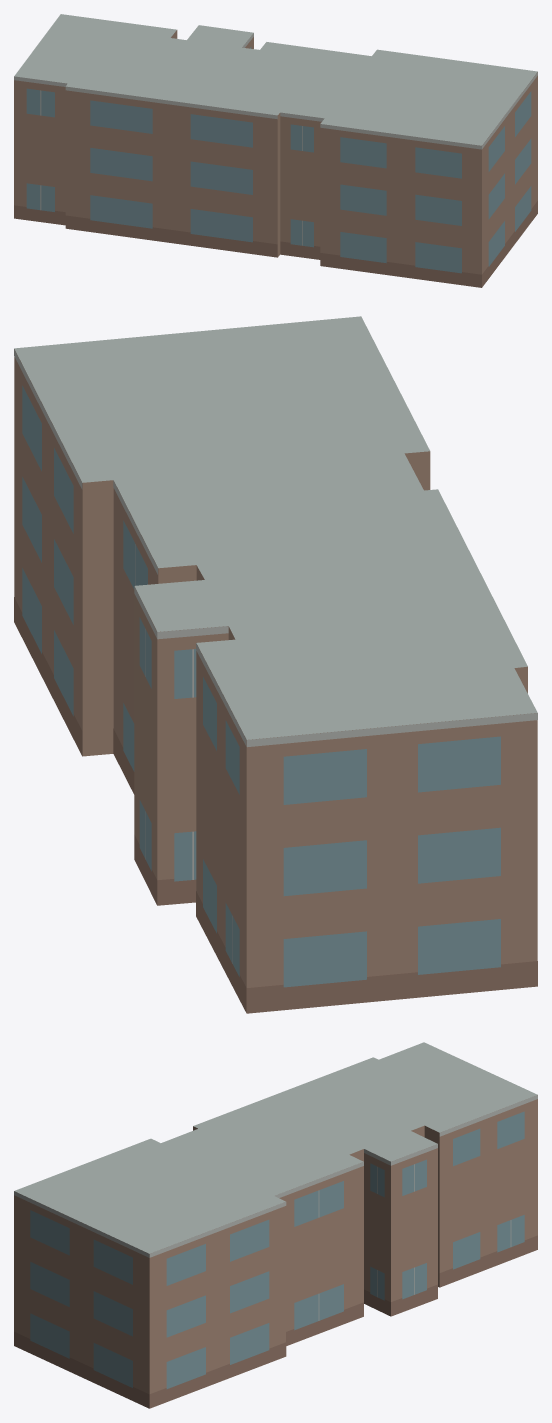
Rendered from survey-upis-32995270.glb.
3 renders of one model, top to bottom at view 1: azimuth 30°, elevation 25°; view 2: azimuth 150°, elevation 25°; view 3: azimuth 270°, elevation 25°, orthographic. The views are drawn at different scales.
Visible parts, largest first — view 1: survey-upis-32995270.tmp; view 2: survey-upis-32995270.tmp; view 3: survey-upis-32995270.tmp.
Part boxes in pixels (<box>): survey-upis-32995270.tmp: <box>14,14,537,287</box>; survey-upis-32995270.tmp: <box>14,316,537,1013</box>; survey-upis-32995270.tmp: <box>14,1042,537,1408</box>.
Bounding box in the file's own units: 26.82 × 9.15 × 28.05.
